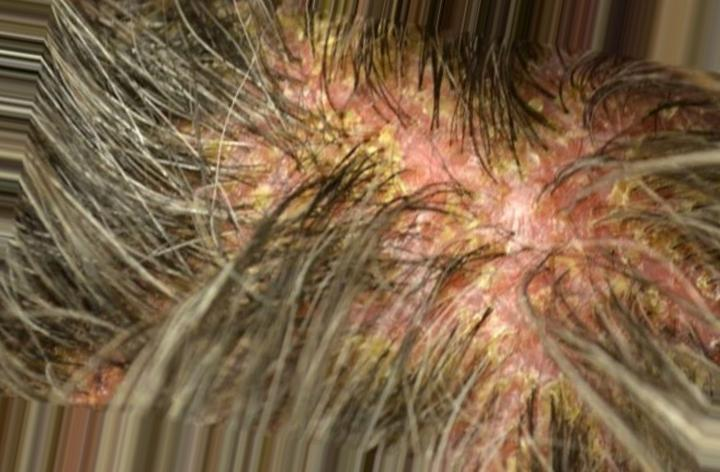Folliculitis: (323, 86, 646, 373)
